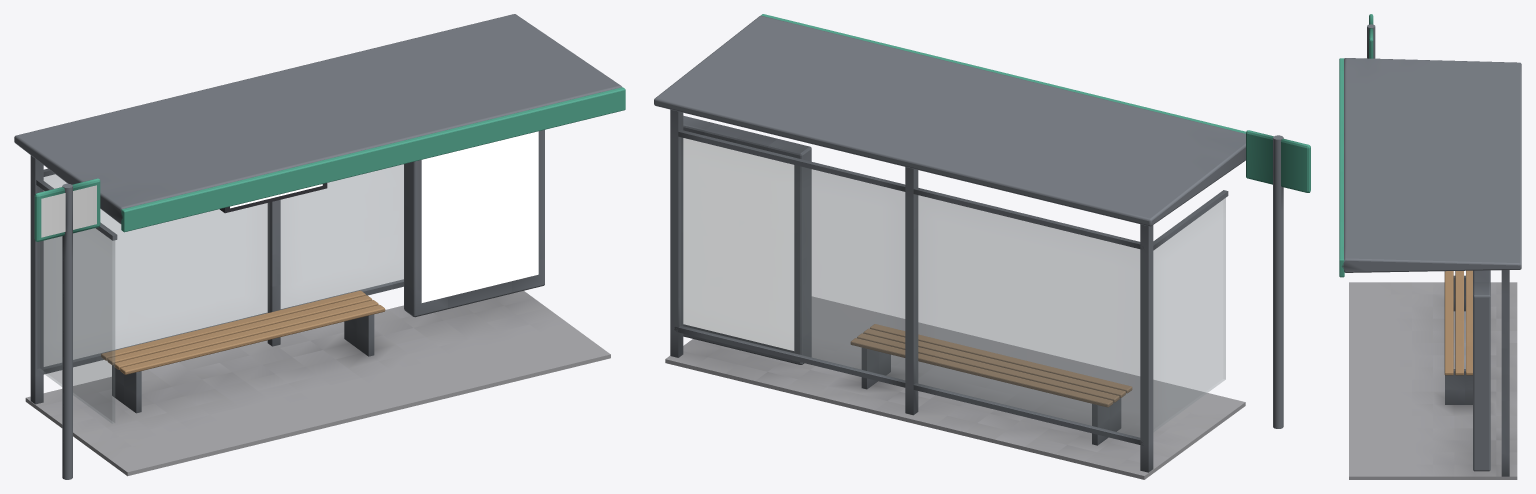
File: st_busstop.glb
The picture shows the model from 3 angles, left to right: view 1: azimuth 30°, elevation 25°; view 2: azimuth 150°, elevation 25°; view 3: azimuth 270°, elevation 25°; orthographic projection. The views are drawn at different scales.
Parts seen in each view (by area): view 1: body, screen_ad, sign_stop; view 2: body, screen_ad2; view 3: body.
Boxes of the visible parts, x1,y1,x2,y2 form: body: [14, 14, 625, 479]; screen_ad: [421, 131, 538, 302]; sign_stop: [41, 185, 96, 237]; body: [654, 14, 1310, 479]; screen_ad2: [683, 138, 794, 350]; body: [1339, 14, 1521, 479].
Bounding box in the file's own units: 6.16 × 3 × 2.06.
